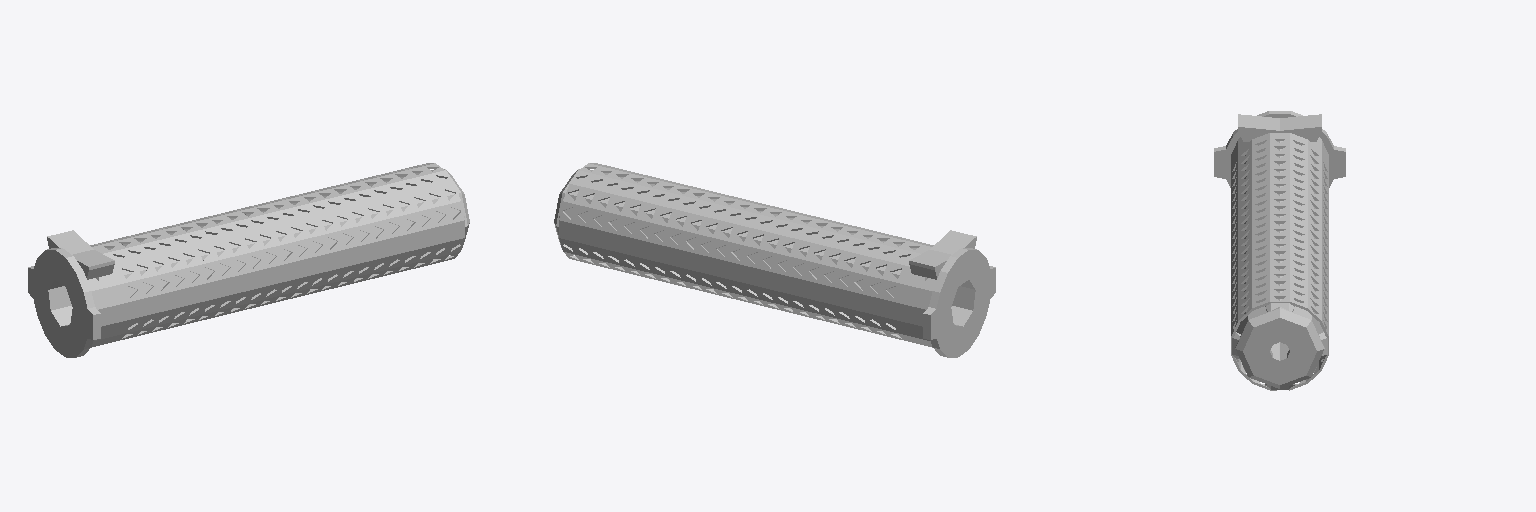
Rendered from qdss.obj.
The picture shows the model from 3 angles: view 1: azimuth 30°, elevation 25°; view 2: azimuth 150°, elevation 25°; view 3: azimuth 270°, elevation 25°; orthographic projection.
Parts seen in each view (by area): view 1: attachmentModel; view 2: attachmentModel; view 3: attachmentModel.
Boxes of the visible parts, x1,y1,x2,y2 form: attachmentModel: [28, 163, 469, 357]; attachmentModel: [554, 163, 995, 357]; attachmentModel: [1214, 111, 1345, 390].
Bounding box in the file's own units: 5.38 × 1.32 × 1.56.